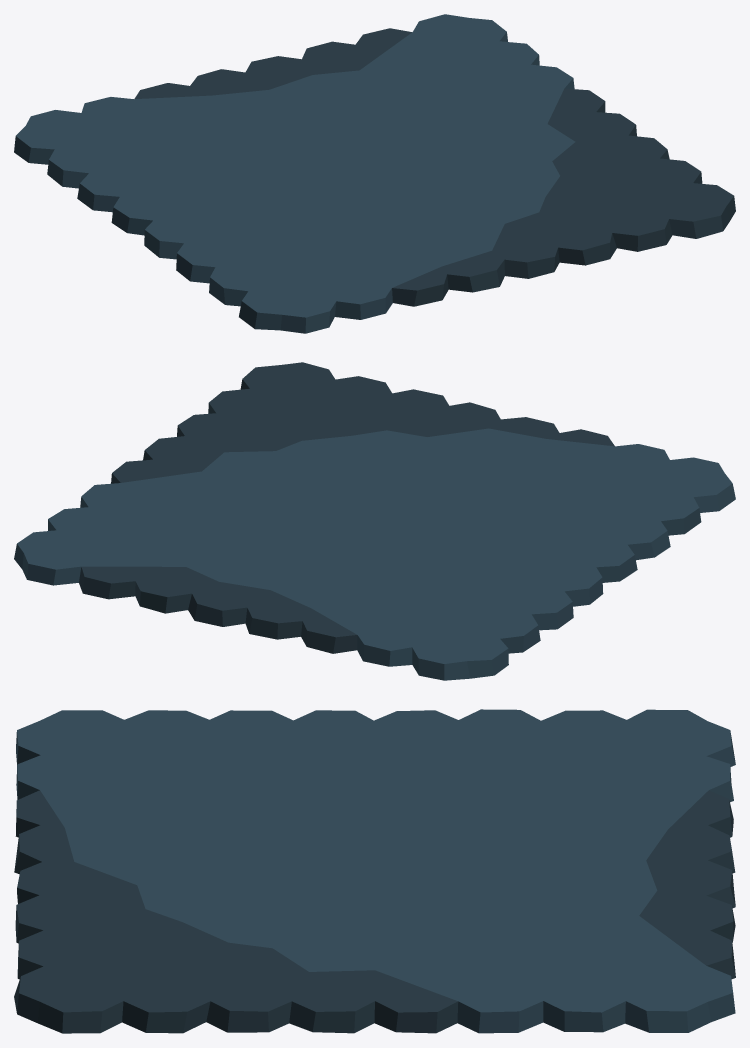
Rendered from SM_Prop_Gym_Mat_02.fbx.
3 views of the same model, one above another, from view 1: azimuth 30°, elevation 25°; view 2: azimuth 150°, elevation 25°; view 3: azimuth 270°, elevation 25° (orthographic). The views are drawn at different scales.
Visible parts, largest first — view 1: SM_Prop_Gym_Mat_02; view 2: SM_Prop_Gym_Mat_02; view 3: SM_Prop_Gym_Mat_02.
Boxes of the visible parts, left/top/right/bottom form: SM_Prop_Gym_Mat_02: left=14, top=14, right=735, bottom=333; SM_Prop_Gym_Mat_02: left=14, top=362, right=735, bottom=680; SM_Prop_Gym_Mat_02: left=14, top=709, right=735, bottom=1033.
Size of the model in its own units: 108 by 3.33 by 108.
